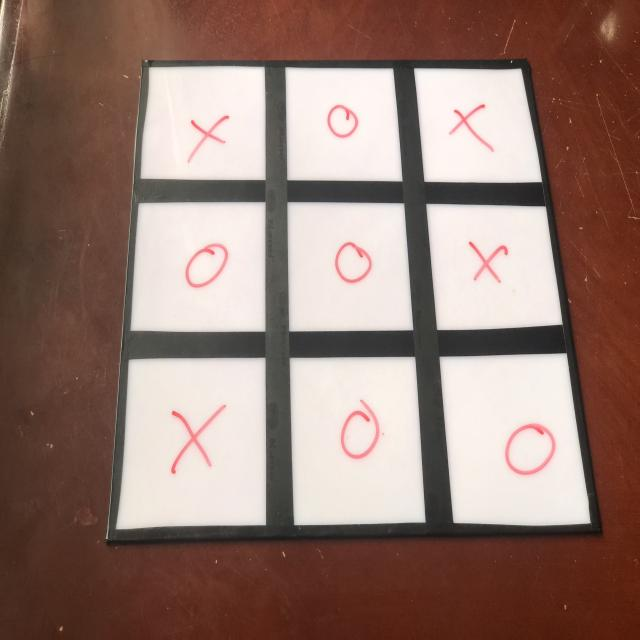o: (503, 417, 557, 479), (338, 399, 382, 466), (183, 238, 230, 296), (333, 238, 373, 288), (326, 100, 363, 141)
table: (99, 54, 603, 542)
x: (169, 400, 227, 476), (464, 234, 511, 287), (450, 100, 491, 155), (189, 105, 229, 159)
